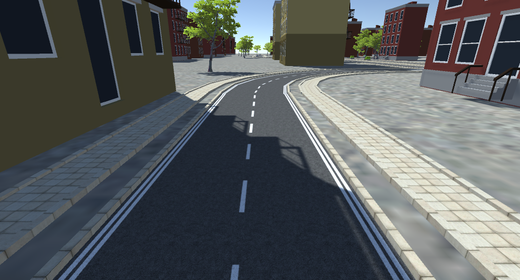centerstrip: (224, 88, 261, 279)
sidestripe: (54, 87, 231, 278), (281, 93, 407, 280)
